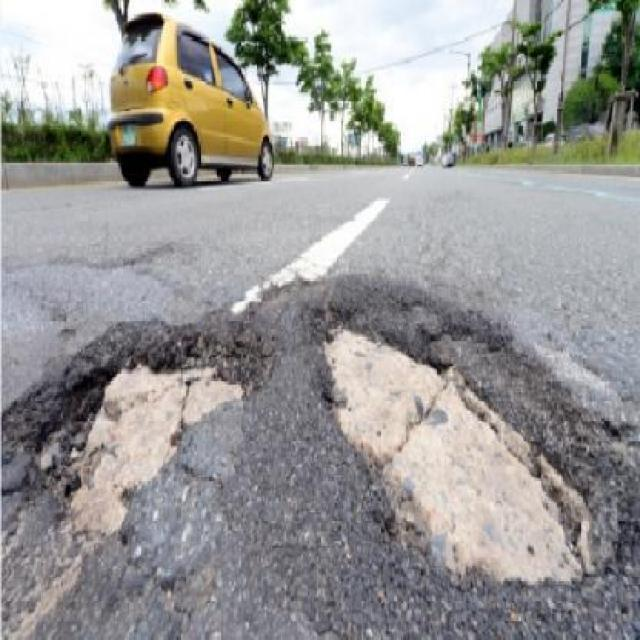pothole: (309, 287, 623, 601), (0, 328, 282, 542)
